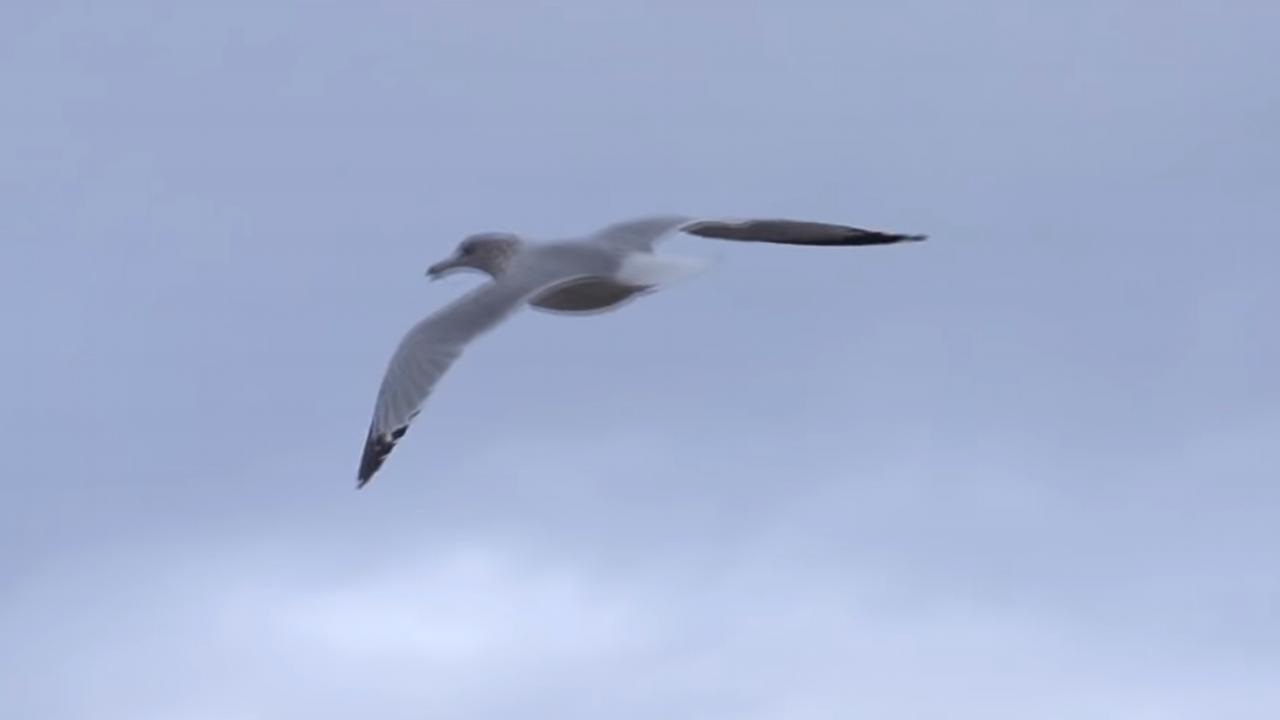Bird: (344, 200, 939, 504)
